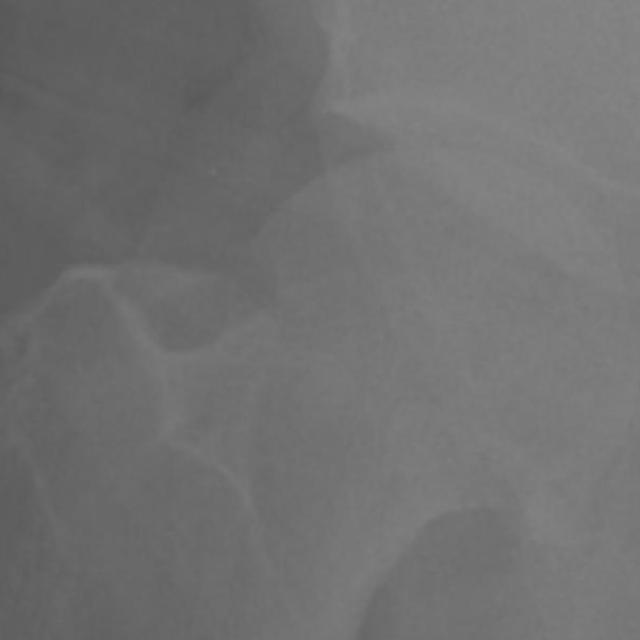Fitted_femural_head: (395, 146, 432, 395)
